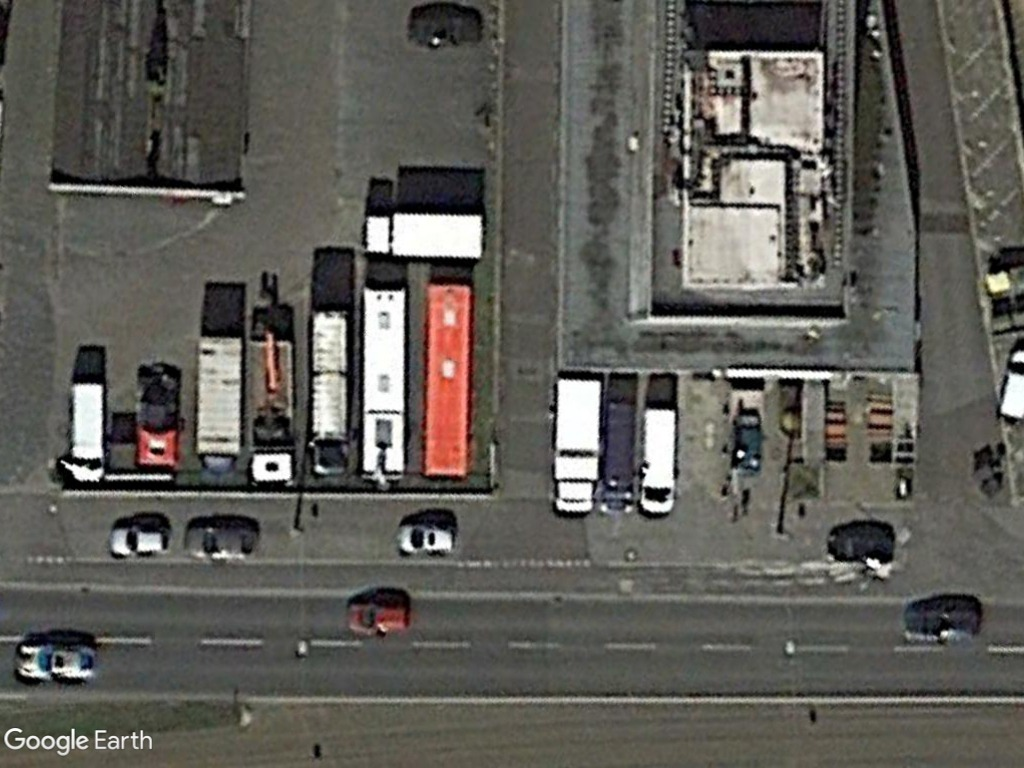bus: (419, 276, 480, 483), (356, 277, 411, 486)
truck: (546, 368, 606, 520), (308, 302, 353, 484), (360, 207, 488, 267)
van: (632, 401, 682, 520)
